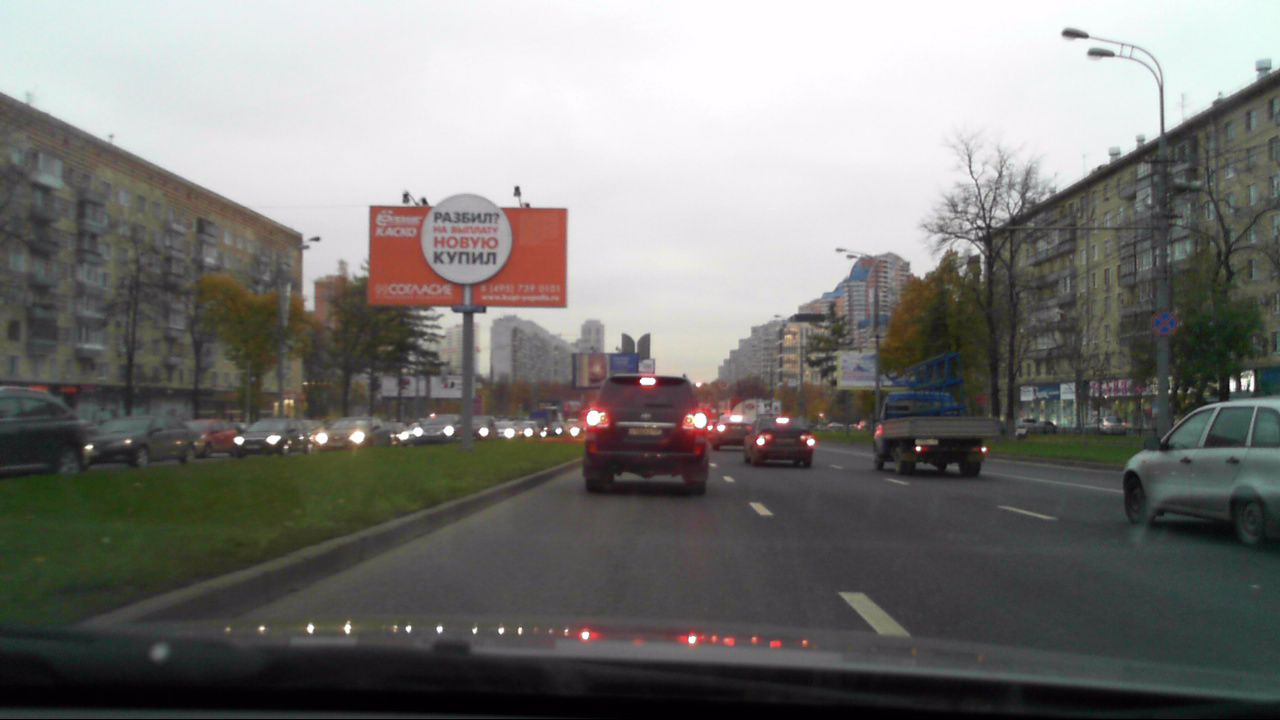No Parking: (1149, 309, 1178, 336)
